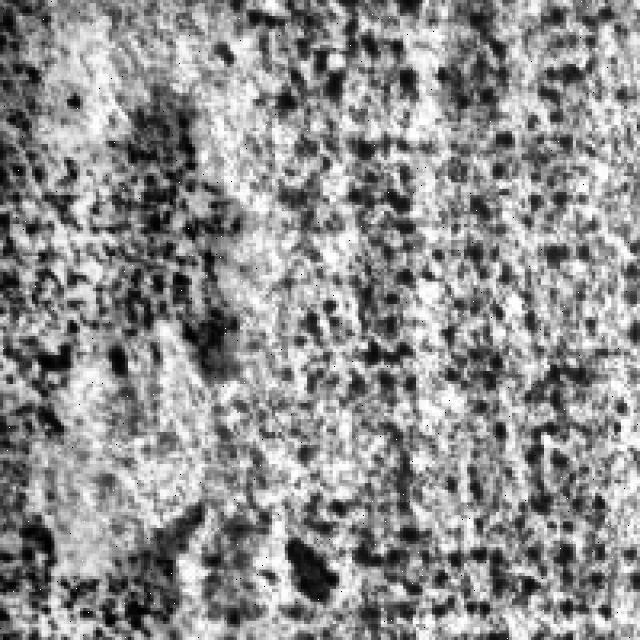Rolled_in_Scale: (6, 0, 640, 637)
